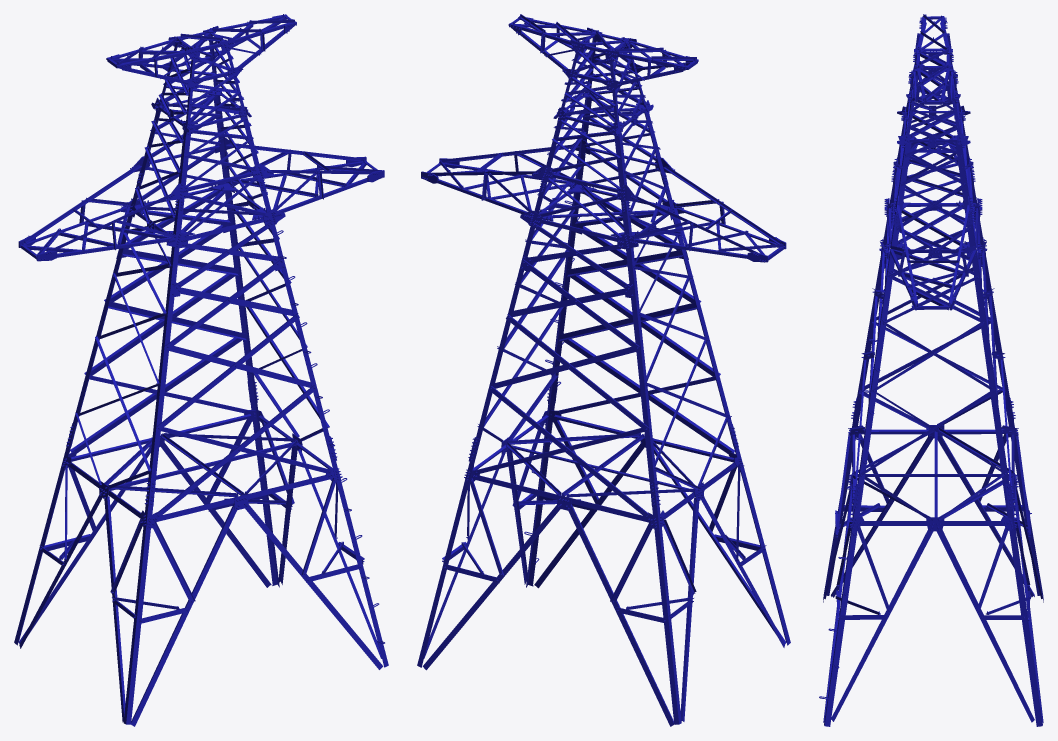
File: tower.FBX
3 renders of one model, left to right at view 1: azimuth 30°, elevation 25°; view 2: azimuth 150°, elevation 25°; view 3: azimuth 270°, elevation 25°, orthographic. The views are drawn at different scales.
Visible parts, largest first — view 1: 16, 13, 17, 09, 14, 04, 08, 15, 10, 07, 03, 06 (+4 smaller); view 2: 16, 13, 17, 09, 14, 04, 08, 15, 07, 10, 03, 06 (+4 smaller); view 3: 16, 17, 14, 13, 07, 10, 15, 09, 05, 04, 03, 02 (+6 smaller).
Boxes of the visible parts, x1,y1,x2,y2 form: 16: (14,90,388,726); 13: (70,183,331,518); 17: (19,410,381,722); 09: (18,143,384,261); 14: (75,182,329,488); 04: (160,26,244,126); 08: (131,137,273,236); 15: (104,433,296,497); 10: (21,151,381,259); 07: (135,91,267,223); 03: (106,14,296,83); 06: (148,90,254,188); 16: (417,97,790,726); 13: (474,178,734,518); 17: (424,411,785,721); 09: (421,144,786,262); 14: (478,183,731,490); 04: (561,27,645,127); 08: (531,139,673,237); 15: (505,433,694,497); 07: (537,92,669,227); 10: (427,153,784,260); 03: (508,16,698,84); 06: (551,96,656,189); 16: (823,122,1043,726); 17: (831,425,1034,722); 14: (858,200,1006,521); 13: (848,198,1018,516); 07: (896,105,970,252); 10: (893,142,976,310); 15: (853,427,1014,518); 09: (889,143,976,310); 05: (908,48,958,139); 04: (901,45,965,135); 03: (912,16,954,104); 02: (920,14,949,104).
Size of the model in its own units: 130 by 223 by 74.55.
